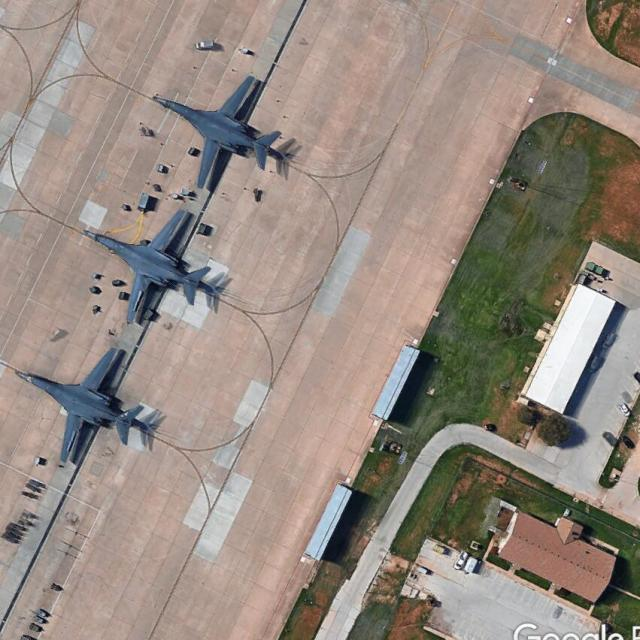fighter jet: (78, 200, 231, 317), (12, 344, 149, 472), (149, 68, 291, 178)
